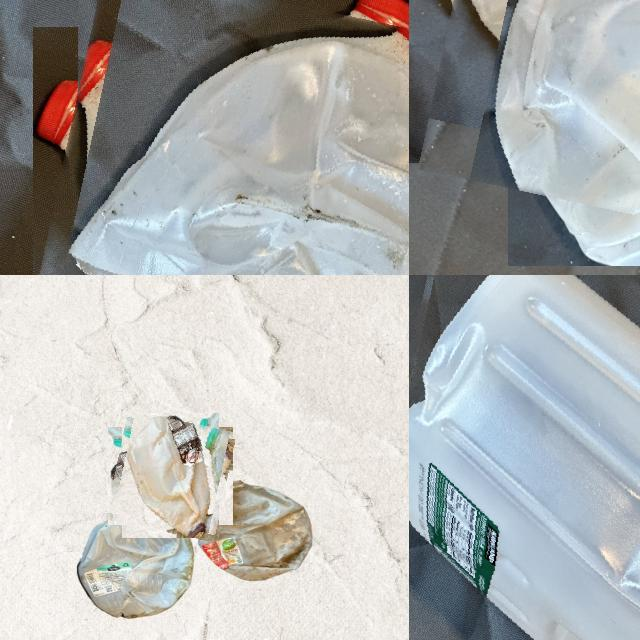milk-jug: (34, 0, 409, 275), (409, 275, 640, 640), (436, 0, 640, 232), (74, 495, 195, 619), (110, 414, 231, 536), (198, 472, 316, 582)
